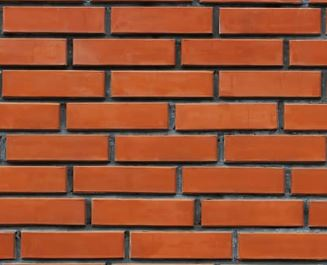brick: (199, 197, 307, 229), (1, 70, 108, 100), (73, 165, 179, 195), (127, 230, 232, 260), (179, 167, 286, 196), (181, 38, 284, 68), (109, 70, 215, 99), (221, 135, 327, 164), (65, 102, 170, 131), (20, 229, 128, 257), (3, 6, 106, 35), (109, 6, 215, 34), (71, 38, 176, 66), (172, 103, 280, 130), (218, 70, 322, 98), (115, 135, 219, 163), (217, 7, 322, 34), (92, 198, 197, 225), (3, 136, 111, 162), (236, 231, 327, 261), (1, 200, 90, 228), (1, 165, 72, 196), (1, 38, 69, 66), (1, 102, 63, 130), (283, 104, 327, 133), (288, 40, 326, 69), (288, 167, 327, 195)
